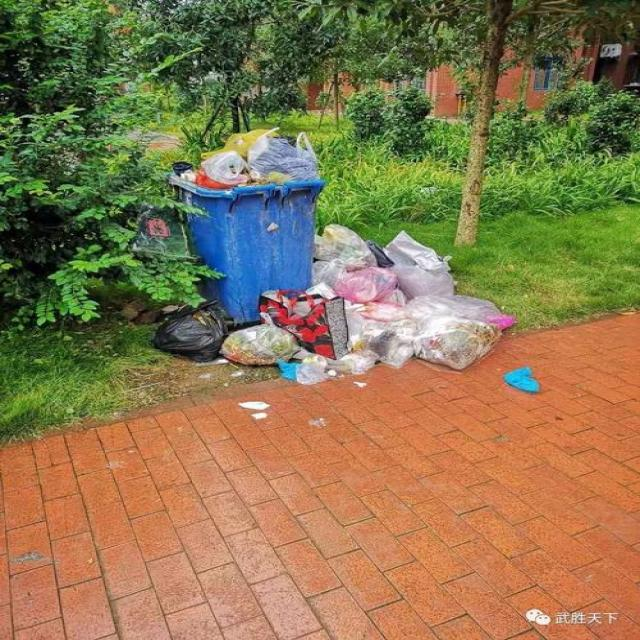garbage: (151, 222, 538, 418)
overflow: (168, 128, 325, 323)
